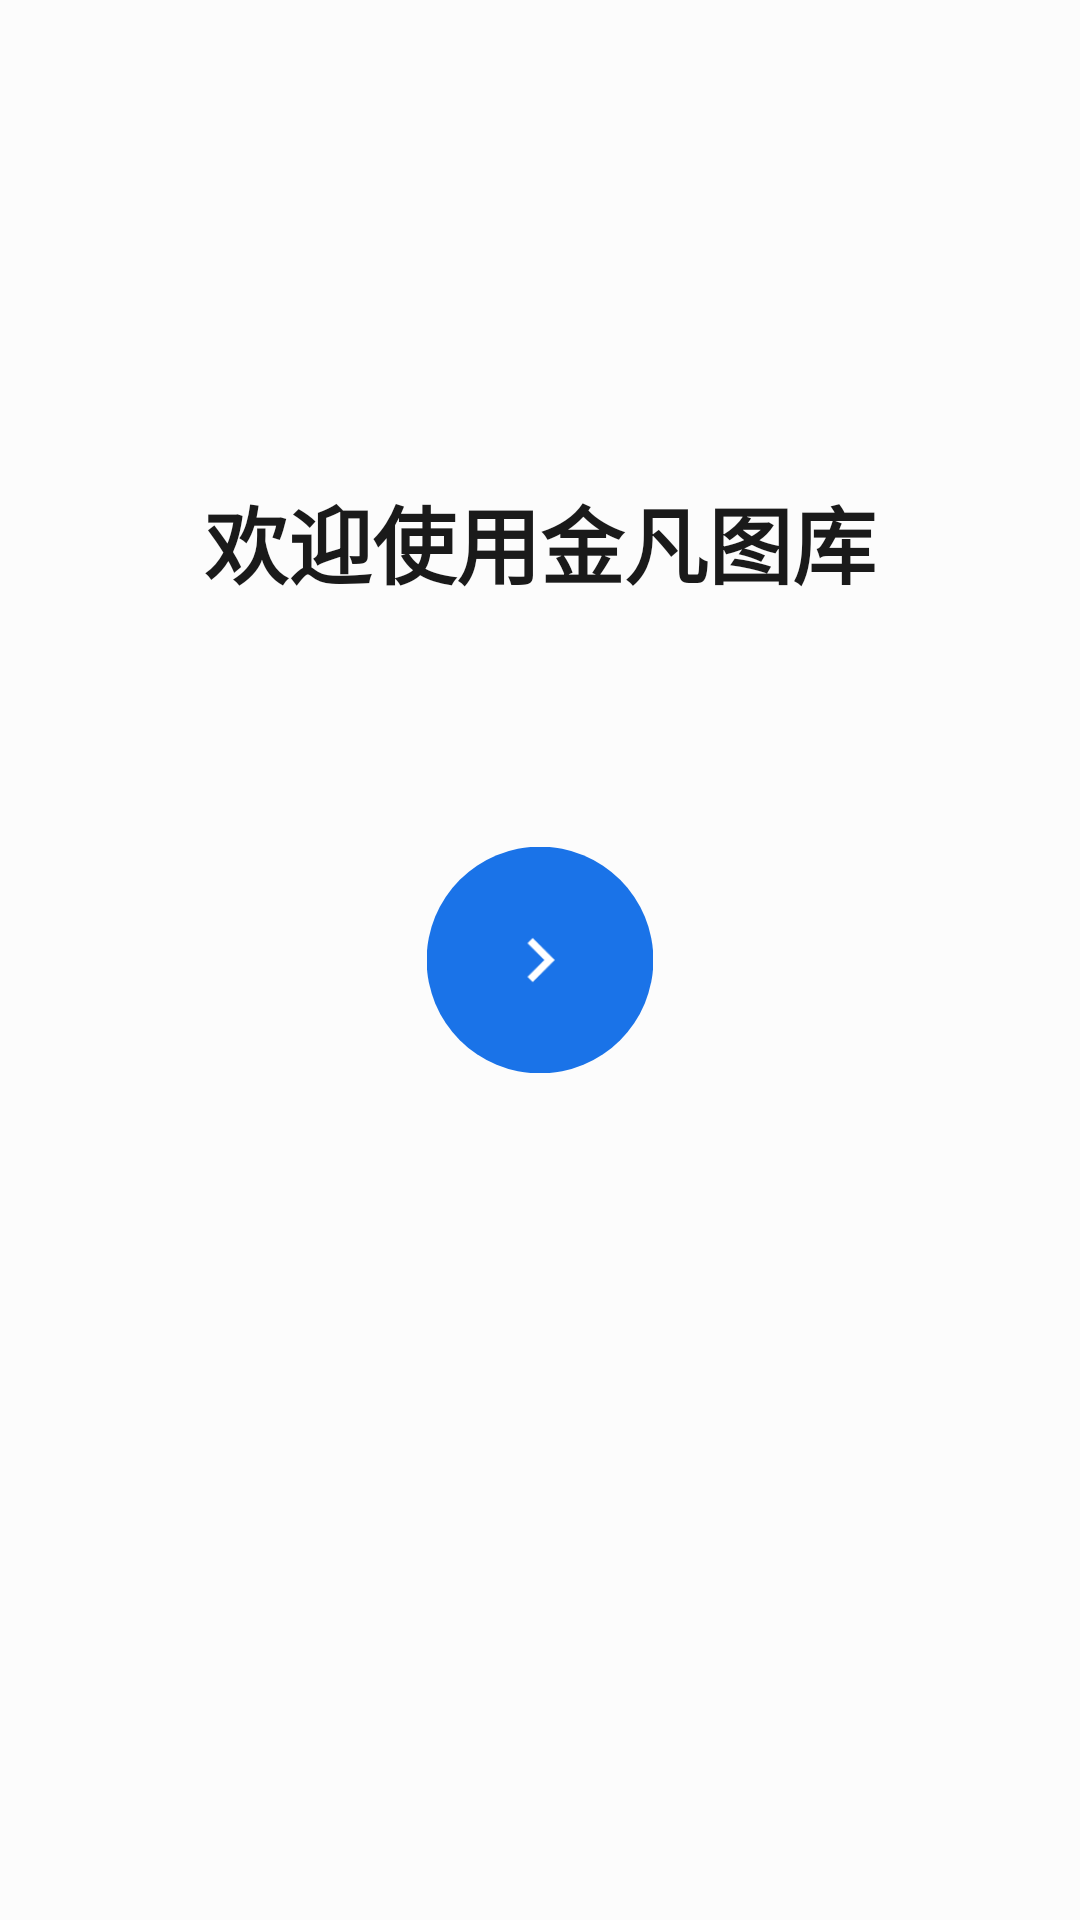

Where to tap for icons on this 1080x1920 app screen, as (x=x, y=y):
arrow forward: (x=541, y=960)
